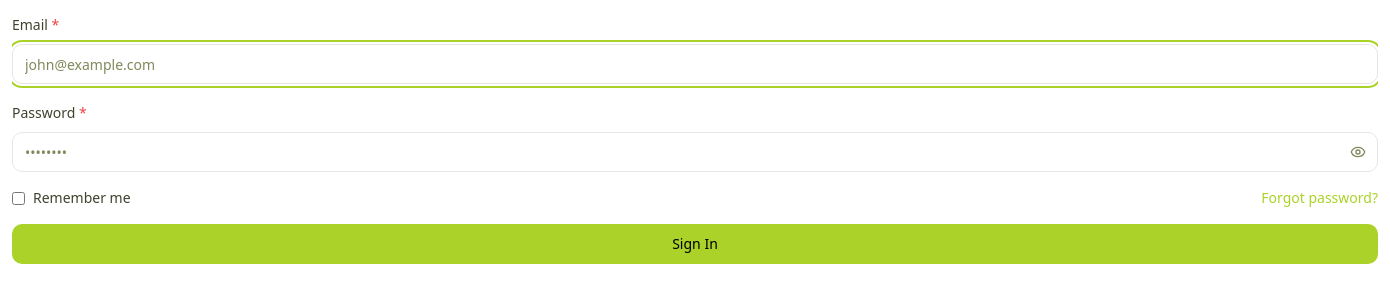
Scenario: LoginForm › strips spaces as they're typed into the email field
Type "john doe@example.com" into the field labelled "Email *" at (695, 64), box 12,44 -> 1378,84
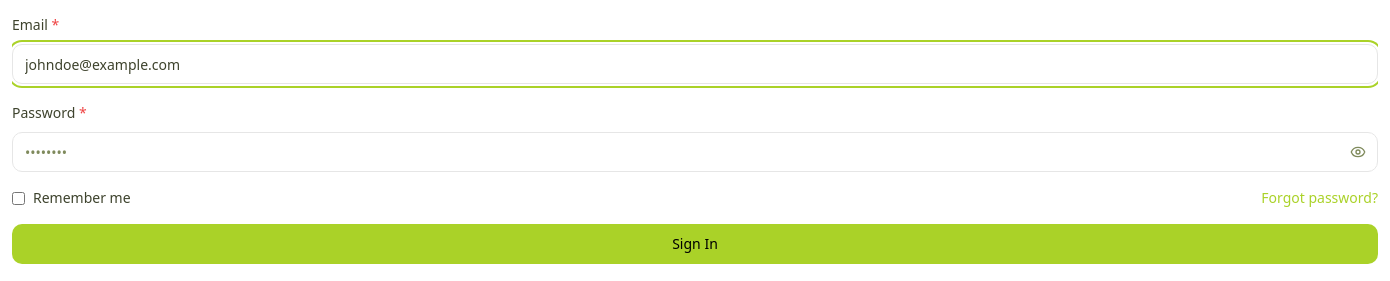
Expected: the field labelled "Email *" holds "johndoe@example.com", 12,44 -> 1378,84
